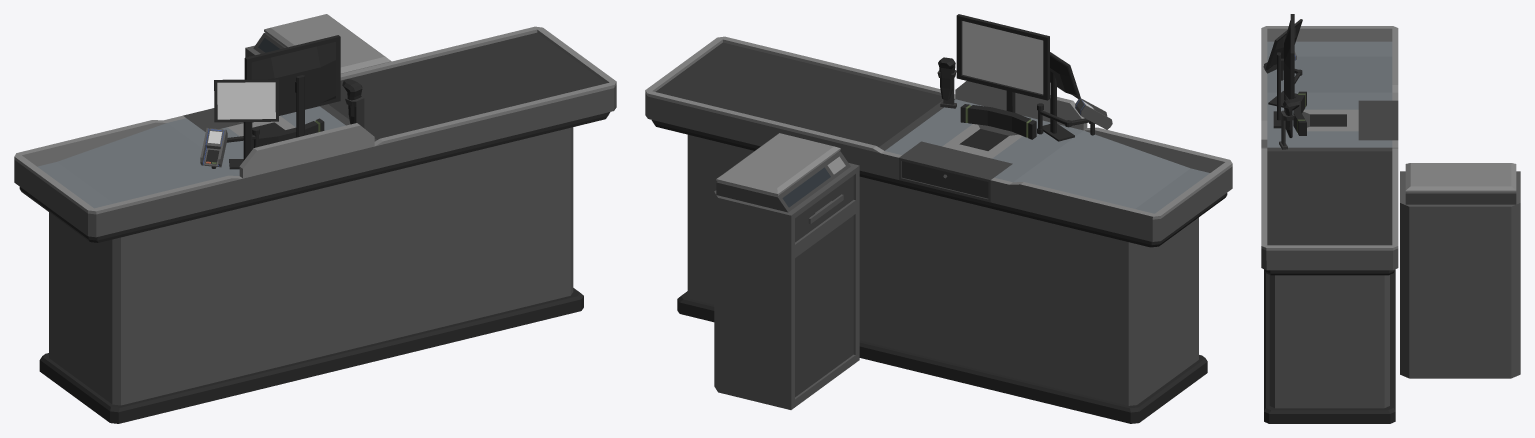
The model's file is SM_Props_CashRegister_03.fbx.
3 views of the same model, side by side, from view 1: azimuth 30°, elevation 25°; view 2: azimuth 150°, elevation 25°; view 3: azimuth 270°, elevation 25° (orthographic). The views are drawn at different scales.
Visible parts, largest first — view 1: SM_Props_CashRegister_03; view 2: SM_Props_CashRegister_03; view 3: SM_Props_CashRegister_03.
Part boxes in pixels (x1,y1,x2,y2): SM_Props_CashRegister_03: (14, 14, 616, 423); SM_Props_CashRegister_03: (645, 14, 1232, 423); SM_Props_CashRegister_03: (1261, 14, 1520, 423).
Bounding box in the file's own units: 2.3 × 1.32 × 1.14.
